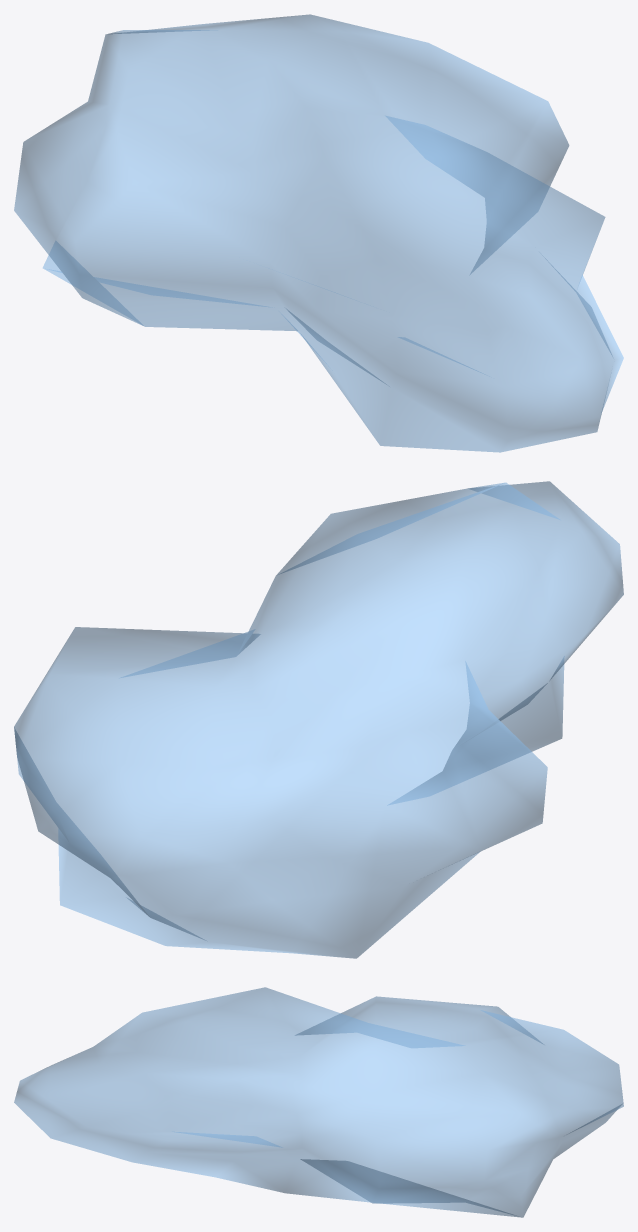
The model's file is mhive_shield.gltf.
The picture shows the model from 3 angles, top to bottom: view 1: azimuth 30°, elevation 25°; view 2: azimuth 150°, elevation 25°; view 3: azimuth 270°, elevation 25°; orthographic projection. The views are drawn at different scales.
Visible parts, largest first — view 1: mhive.shield; view 2: mhive.shield; view 3: mhive.shield.
Part boxes in pixels (bbox=[...]): mhive.shield: bbox=[14, 14, 623, 452]; mhive.shield: bbox=[14, 481, 623, 958]; mhive.shield: bbox=[14, 987, 623, 1217].
Size of the model in its own units: 18.24 by 9.48 by 29.91.
